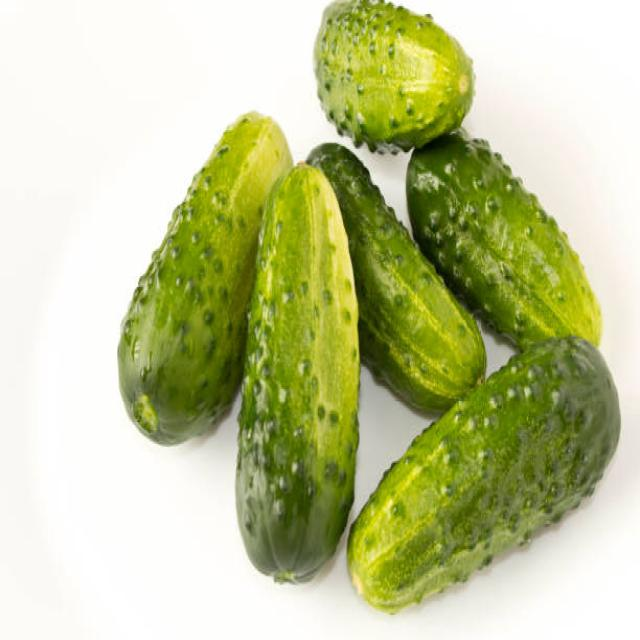cucumber: (344, 330, 623, 616), (116, 107, 297, 448), (236, 160, 361, 579), (304, 140, 488, 416), (405, 130, 605, 356), (314, 0, 476, 154)
